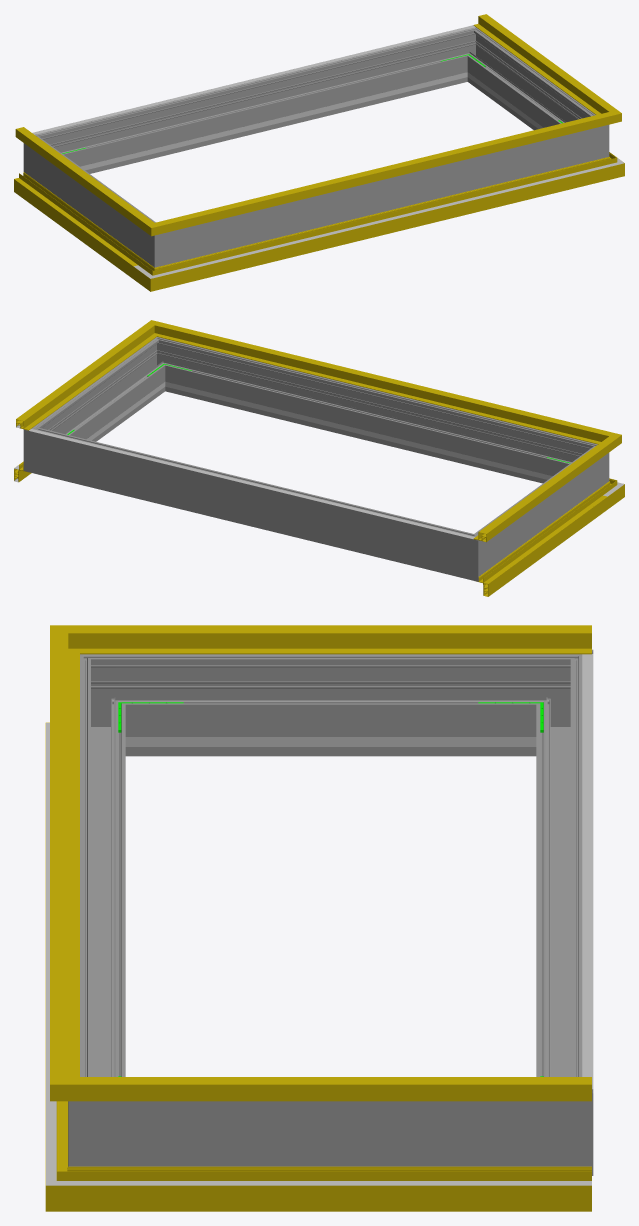
3 views of the same model, one above another, from view 1: azimuth 30°, elevation 25°; view 2: azimuth 150°, elevation 25°; view 3: azimuth 270°, elevation 25° (orthographic). The views are drawn at different scales.
Visible parts, largest first — view 1: 3DGeom-276, 3DGeom-298, 3DGeom-90, 3DGeom-123, 3DGeom-297, 3DGeom-268, 3DGeom-85, 3DGeom-128, 3DGeom-118, 3DGeom-244, 3DGeom-270, 3DGeom-220 (+9 smaller); view 2: 3DGeom-298, 3DGeom-276, 3DGeom-123, 3DGeom-297, 3DGeom-268, 3DGeom-85, 3DGeom-128, 3DGeom-118, 3DGeom-239, 3DGeom-278, 3DGeom-220, 3DGeom-284 (+6 smaller); view 3: 3DGeom-268, 3DGeom-297, 3DGeom-97, 3DGeom-276, 3DGeom-298, 3DGeom-118, 3DGeom-123, 3DGeom-128, 3DGeom-220, 3DGeom-284, 3DGeom-290, 3DGeom-278 (+8 smaller).
Boxes of the visible parts, left/top/right/bottom form: 3DGeom-276: left=56, top=33, right=462, bottom=173; 3DGeom-298: left=184, top=132, right=579, bottom=260; 3DGeom-90: left=174, top=161, right=595, bottom=284; 3DGeom-123: left=176, top=117, right=592, bottom=228; 3DGeom-297: left=470, top=38, right=587, bottom=130; 3DGeom-268: left=40, top=145, right=146, bottom=254; 3DGeom-85: left=14, top=172, right=142, bottom=278; 3DGeom-128: left=473, top=14, right=604, bottom=111; 3DGeom-118: left=15, top=127, right=141, bottom=223; 3DGeom-244: left=91, top=79, right=438, bottom=168; 3DGeom-270: left=137, top=216, right=184, bottom=267; 3DGeom-220: left=32, top=25, right=475, bottom=134; 3DGeom-298: left=170, top=343, right=576, bottom=483; 3DGeom-276: left=53, top=433, right=453, bottom=574; 3DGeom-123: left=173, top=327, right=591, bottom=441; 3DGeom-297: left=45, top=347, right=162, bottom=441; 3DGeom-268: left=486, top=454, right=592, bottom=564; 3DGeom-85: left=476, top=490, right=607, bottom=596; 3DGeom-128: left=16, top=332, right=147, bottom=430; 3DGeom-118: left=473, top=445, right=604, bottom=541; 3DGeom-239: left=194, top=388, right=541, bottom=478; 3DGeom-278: left=448, top=525, right=495, bottom=581; 3DGeom-220: left=29, top=429, right=474, bottom=539; 3DGeom-284: left=23, top=418, right=58, bottom=477; 3DGeom-268: left=137, top=654, right=524, bottom=756; 3DGeom-297: left=137, top=1101, right=524, bottom=1166; 3DGeom-97: left=114, top=1166, right=591, bottom=1211; 3DGeom-276: left=536, top=678, right=582, bottom=1076; 3DGeom-298: left=80, top=678, right=125, bottom=1076; 3DGeom-118: left=118, top=625, right=591, bottom=654; 3DGeom-123: left=50, top=654, right=79, bottom=1071; 3DGeom-128: left=118, top=1077, right=591, bottom=1101; 3DGeom-220: left=582, top=654, right=593, bottom=1089; 3DGeom-284: left=525, top=1064, right=593, bottom=1175; 3DGeom-290: left=68, top=1064, right=136, bottom=1166; 3DGeom-278: left=525, top=649, right=593, bottom=756.
Size of the model in its own units: 2.44 by 0.3069 by 1.22.
